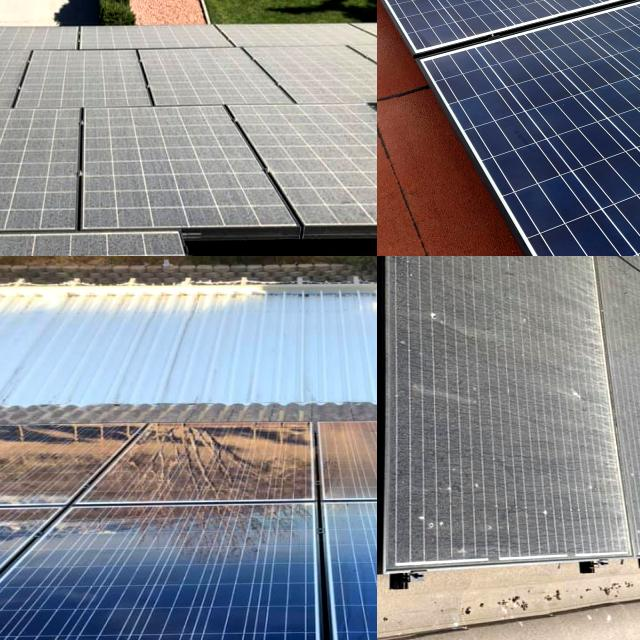crack: (389, 0, 640, 256), (0, 490, 377, 640), (74, 418, 362, 515), (377, 0, 640, 77), (295, 414, 377, 515)
dust: (494, 256, 584, 555), (102, 120, 228, 222), (387, 398, 472, 548), (387, 256, 482, 390), (598, 260, 640, 547), (270, 123, 377, 209), (0, 120, 64, 217), (32, 49, 135, 106), (166, 52, 256, 98), (0, 113, 36, 218), (303, 53, 370, 98), (0, 52, 42, 100), (0, 58, 23, 102)
